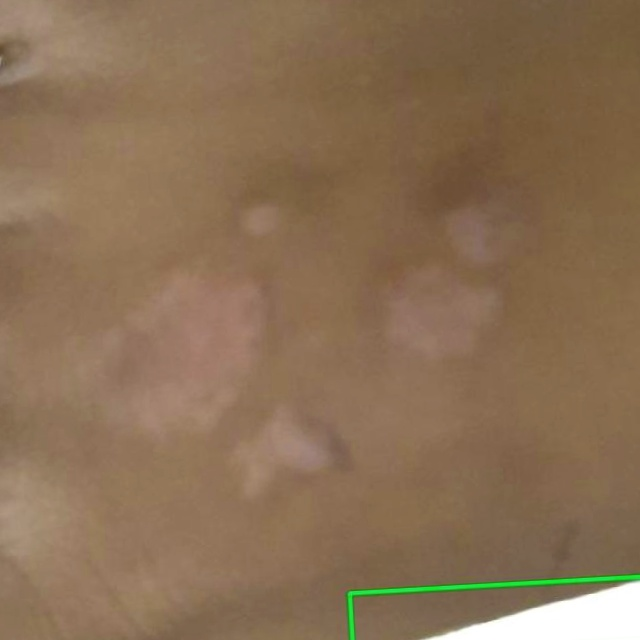Eczema: (349, 576, 639, 639)
